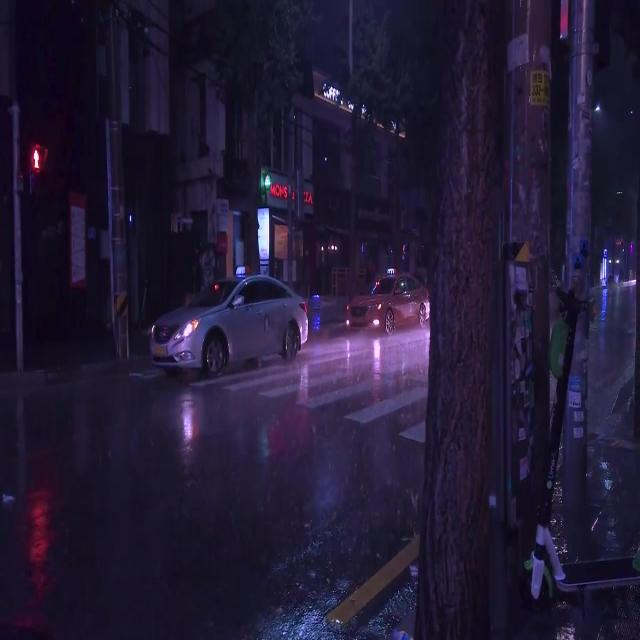Car: (146, 273, 309, 375), (344, 277, 428, 333)
